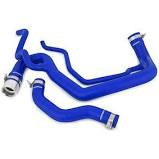radiator_hose: (5, 33, 157, 101), (31, 78, 118, 128)
